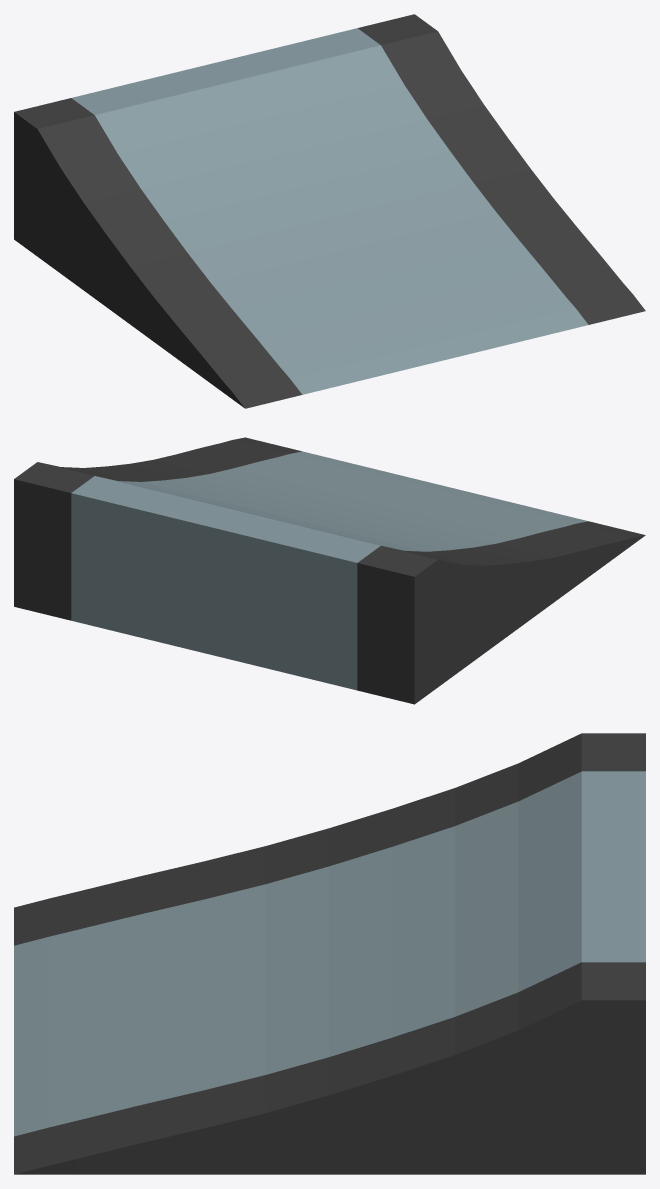
The model's file is Ramp v2.fbx.
3 views of the same model, one above another, from view 1: azimuth 30°, elevation 25°; view 2: azimuth 150°, elevation 25°; view 3: azimuth 270°, elevation 25° (orthographic). The views are drawn at different scales.
Parts seen in each view (by area): view 1: Cube; view 2: Cube; view 3: Cube.
Part boxes in pixels (x1,y1,x2,y2): Cube: (14, 14, 645, 408); Cube: (14, 437, 645, 704); Cube: (14, 733, 645, 1174).
Bounding box in the file's own units: 200 × 60.86 × 200.
